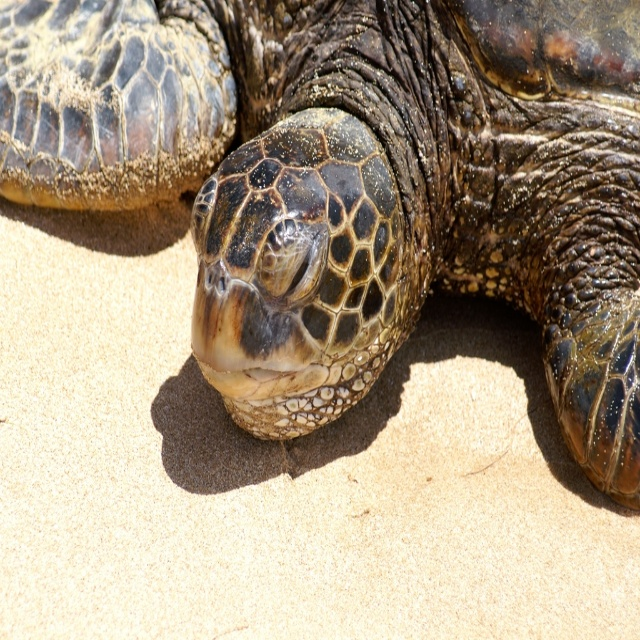Sea turtle: (0, 0, 640, 511)
